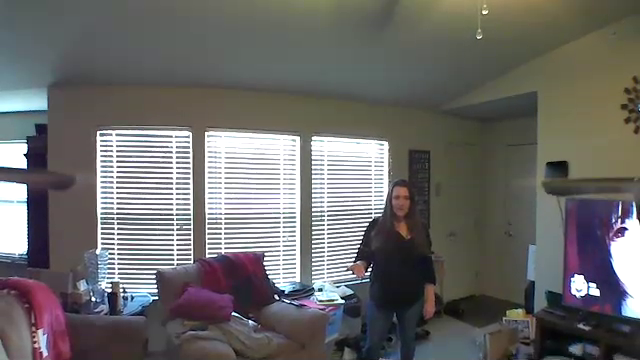land: (339, 261, 369, 281)
